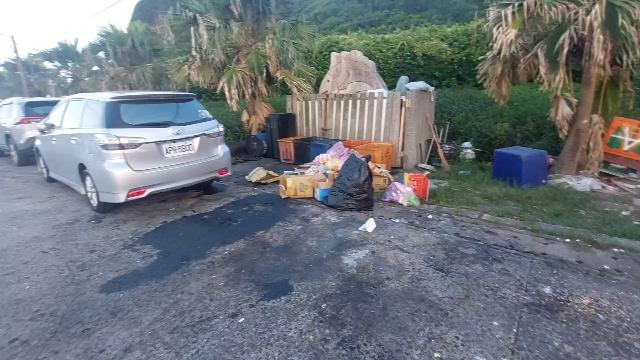pollute: (244, 133, 430, 215), (494, 116, 638, 200), (358, 217, 377, 231)
